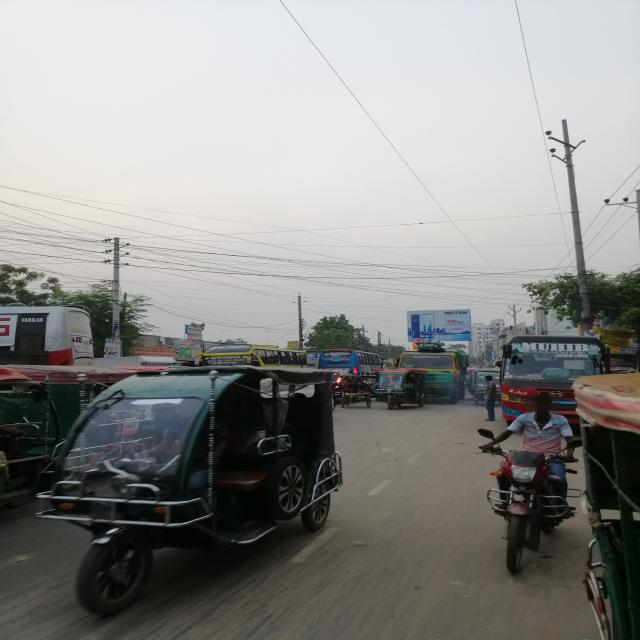Bicycle: (472, 429, 585, 599)
Easybike: (38, 359, 348, 626)
